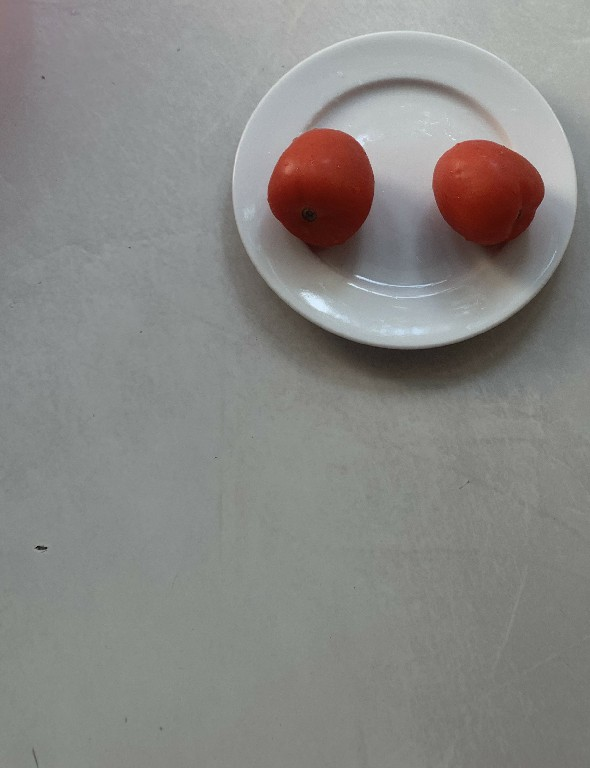OK: (429, 132, 550, 257), (261, 124, 374, 245)
